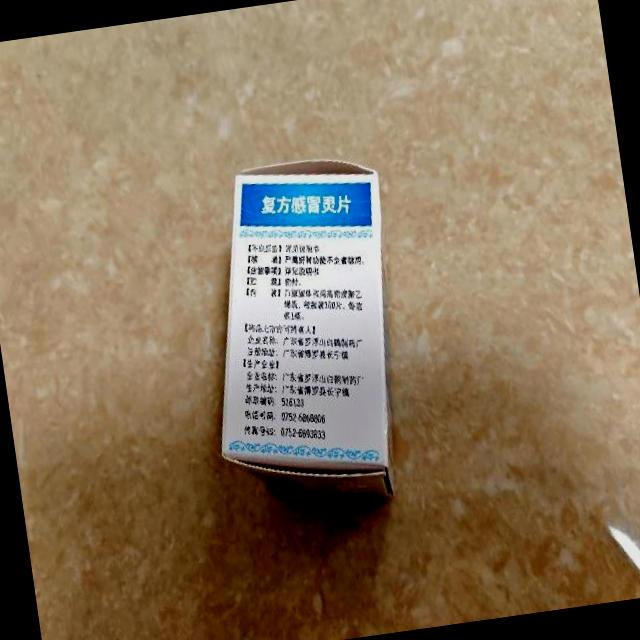box: (180, 148, 424, 522)
